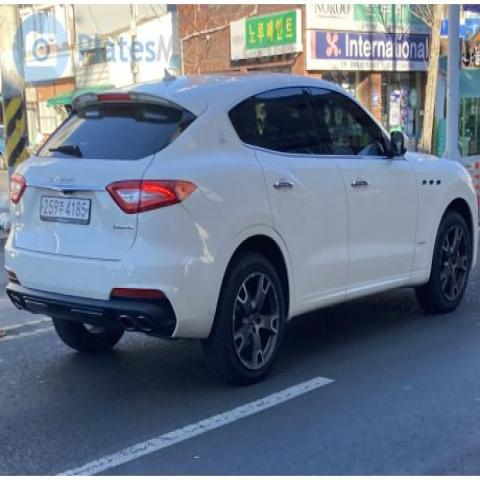LP: (30, 186, 101, 238)
